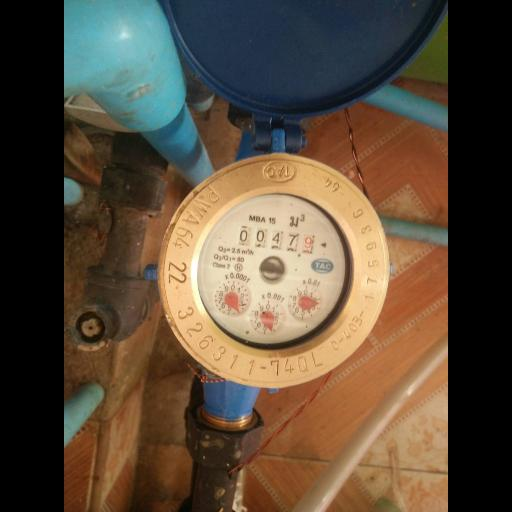0: (237, 225, 251, 246), (254, 227, 268, 248)
4: (271, 229, 284, 251)
7: (286, 232, 300, 253)
9: (303, 234, 316, 255)
border_water_meter_number: (231, 221, 328, 258)
